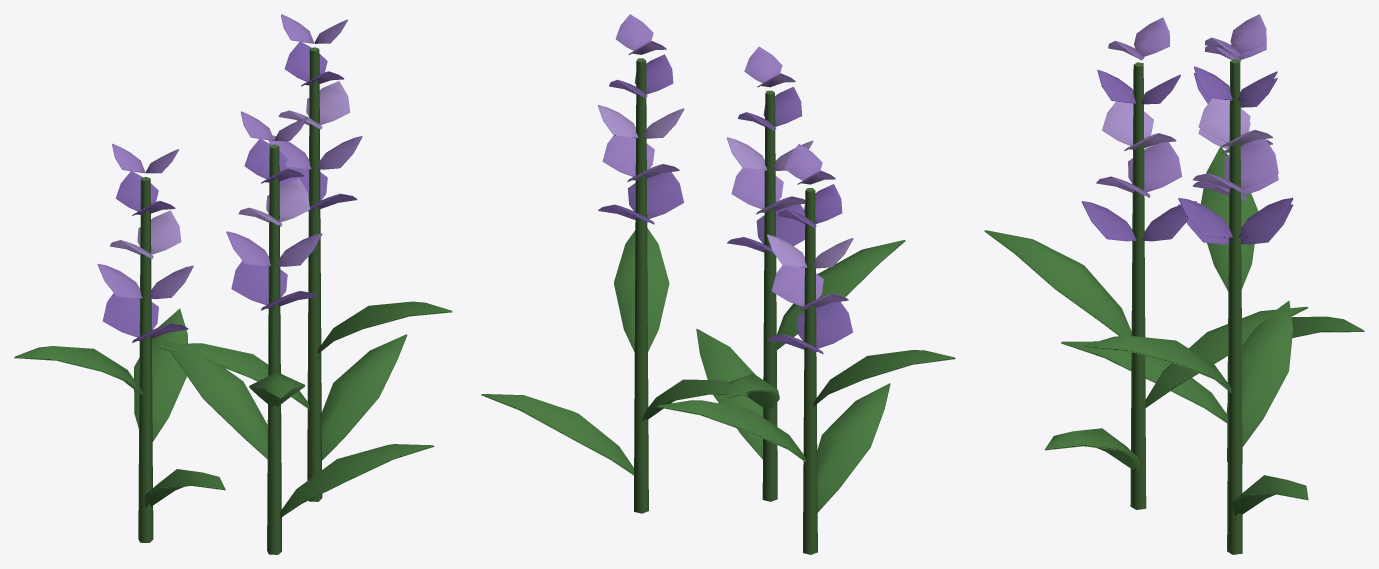
Rendered from lavender.glb.
The picture shows the model from 3 angles, left to right: view 1: azimuth 30°, elevation 25°; view 2: azimuth 150°, elevation 25°; view 3: azimuth 270°, elevation 25°; orthographic projection. The views are drawn at different scales.
Parts seen in each view (by area): view 1: lavender; view 2: lavender; view 3: lavender.
Boxes of the visible parts, box(x1,y1,x2,y2) form: lavender: box(14, 14, 452, 554); lavender: box(481, 14, 955, 554); lavender: box(984, 14, 1364, 554).
Size of the model in its own units: 0.5654 by 0.6007 by 0.3942.
